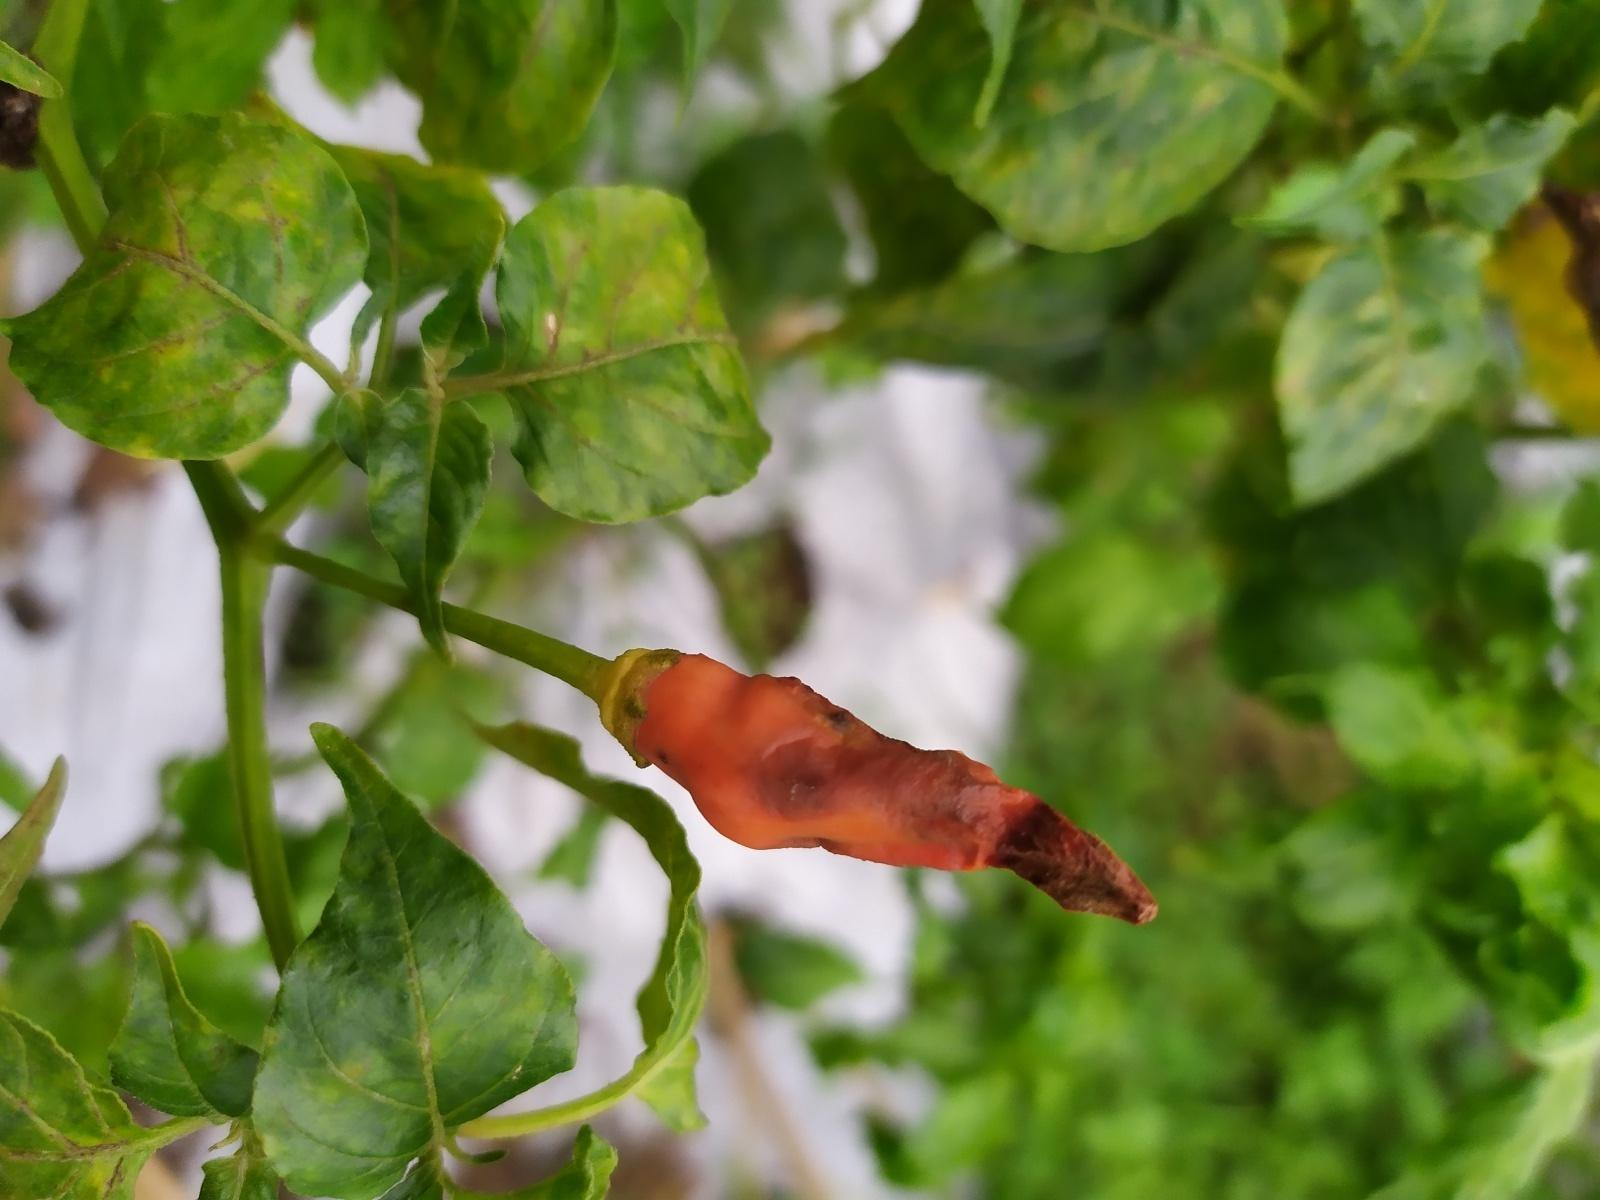antraknosa: (622, 650, 1159, 926)
